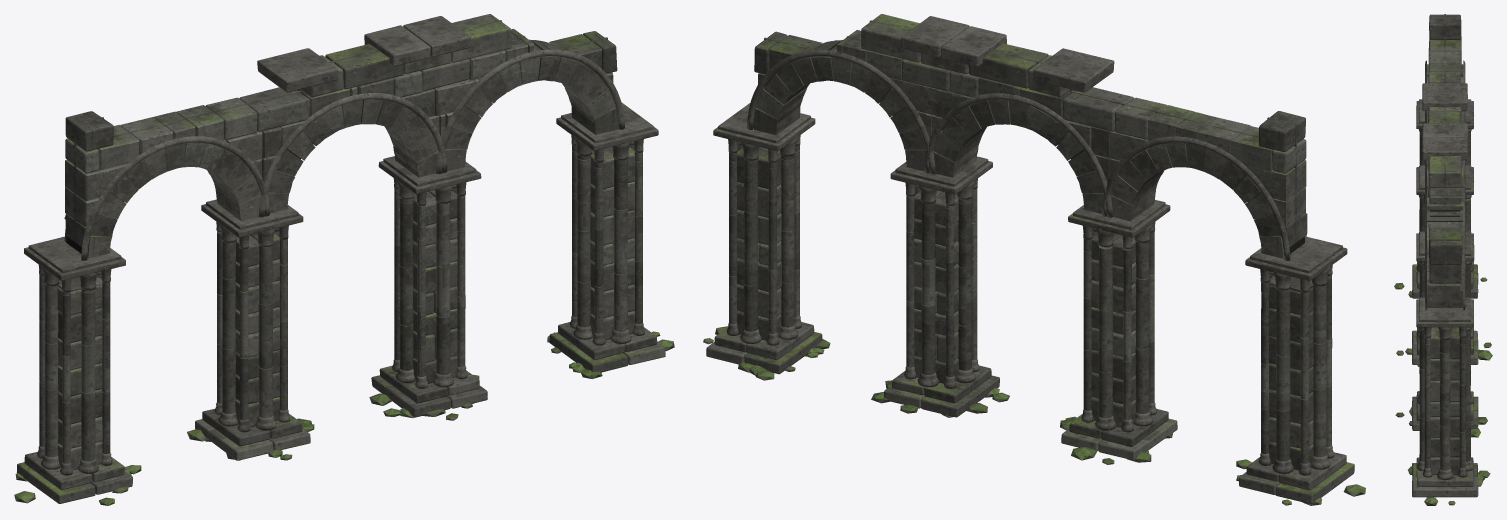
Rendered from ER_Arcade_Piles_Fasciculees_3Travees.gltf.
3 renders of one model, left to right at view 1: azimuth 30°, elevation 25°; view 2: azimuth 150°, elevation 25°; view 3: azimuth 270°, elevation 25°, orthographic. The views are drawn at different scales.
Visible parts, largest first — view 1: ER_Arcade_Piles_Fasciculees_3Travees_P.001, ER_Arcade_Piles_Fasciculees_3Travees_MOUL.001, ER_Arcade_Piles_Fasciculees_3Travees_PM.001, ER_Arcade_Piles_Fasciculees_3Travees_PS.001; view 2: ER_Arcade_Piles_Fasciculees_3Travees_P.001, ER_Arcade_Piles_Fasciculees_3Travees_MOUL.001, ER_Arcade_Piles_Fasciculees_3Travees_PM.001, ER_Arcade_Piles_Fasciculees_3Travees_PS.001; view 3: ER_Arcade_Piles_Fasciculees_3Travees_P.001, ER_Arcade_Piles_Fasciculees_3Travees_MOUL.001, ER_Arcade_Piles_Fasciculees_3Travees_PM.001, ER_Arcade_Piles_Fasciculees_3Travees_PS.001, ER_Arcade_Piles_Fasciculees_3Travees_NOIR.001.
Boxes of the visible parts, x1,y1,x2,y2 form: ER_Arcade_Piles_Fasciculees_3Travees_P.001: (17, 14, 665, 503); ER_Arcade_Piles_Fasciculees_3Travees_MOUL.001: (24, 16, 658, 475); ER_Arcade_Piles_Fasciculees_3Travees_PM.001: (14, 331, 674, 505); ER_Arcade_Piles_Fasciculees_3Travees_PS.001: (74, 20, 607, 236); ER_Arcade_Piles_Fasciculees_3Travees_P.001: (706, 14, 1354, 504); ER_Arcade_Piles_Fasciculees_3Travees_MOUL.001: (713, 16, 1347, 475); ER_Arcade_Piles_Fasciculees_3Travees_PM.001: (703, 326, 1365, 505); ER_Arcade_Piles_Fasciculees_3Travees_PS.001: (764, 20, 1296, 236); ER_Arcade_Piles_Fasciculees_3Travees_P.001: (1412, 14, 1478, 497); ER_Arcade_Piles_Fasciculees_3Travees_MOUL.001: (1416, 60, 1474, 480); ER_Arcade_Piles_Fasciculees_3Travees_PM.001: (1394, 277, 1492, 505); ER_Arcade_Piles_Fasciculees_3Travees_PS.001: (1444, 14, 1445, 297); ER_Arcade_Piles_Fasciculees_3Travees_NOIR.001: (1430, 210, 1460, 290).
Size of the model in its own units: 13.99 by 7.5 by 2.4.
Materials: 5 (4 with a texture image).
